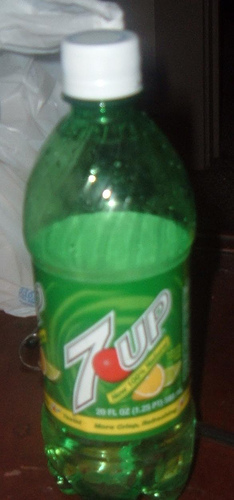emptybottle: (22, 31, 198, 500)
